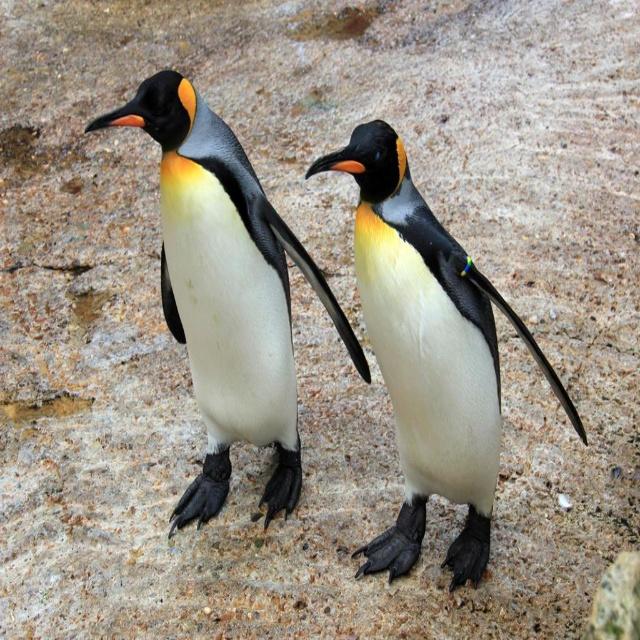Penguin: (81, 62, 373, 538), (313, 115, 596, 594)
